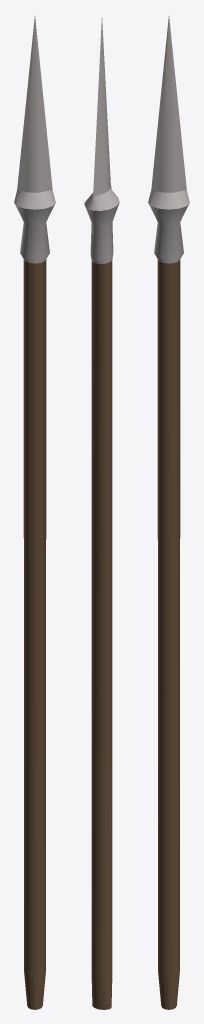
The model's file is spear.fbx.
3 views of the same model, side by side, from view 1: azimuth 90°, elevation 25°; view 2: azimuth 150°, elevation 25°; view 3: azimuth 270°, elevation 25° (orthographic).
Visible parts, largest first — view 1: spear; view 2: spear; view 3: spear.
Boxes of the visible parts, box(x1,y1,x2,y2) form: spear: box(14, 16, 55, 1009); spear: box(84, 17, 119, 1009); spear: box(148, 16, 189, 1009).
Size of the model in its own units: 27.78 by 906 by 34.55.
